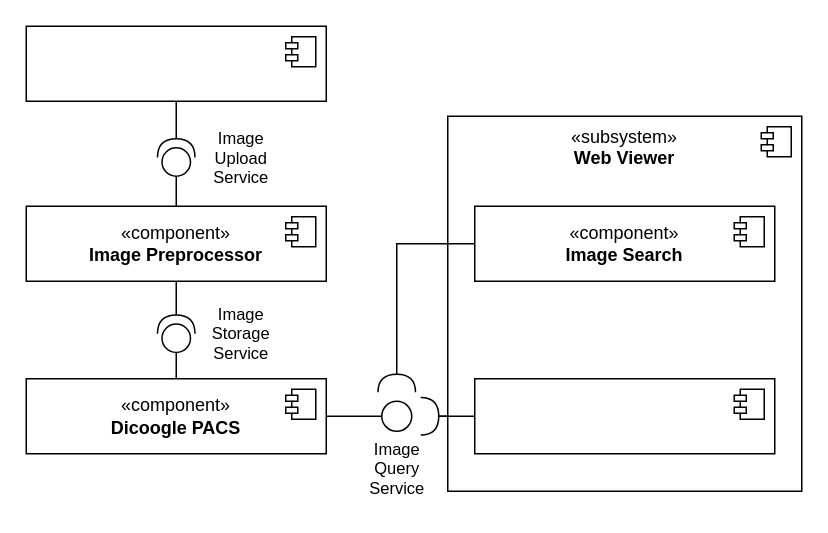
This 828x533 diagram has some shape labels left out. Here are the shapes that lost their labels. From the top down, the centre of each, then its label:
point (175, 63): «component » Image Scanner
point (624, 415): «component » Image Viewer
